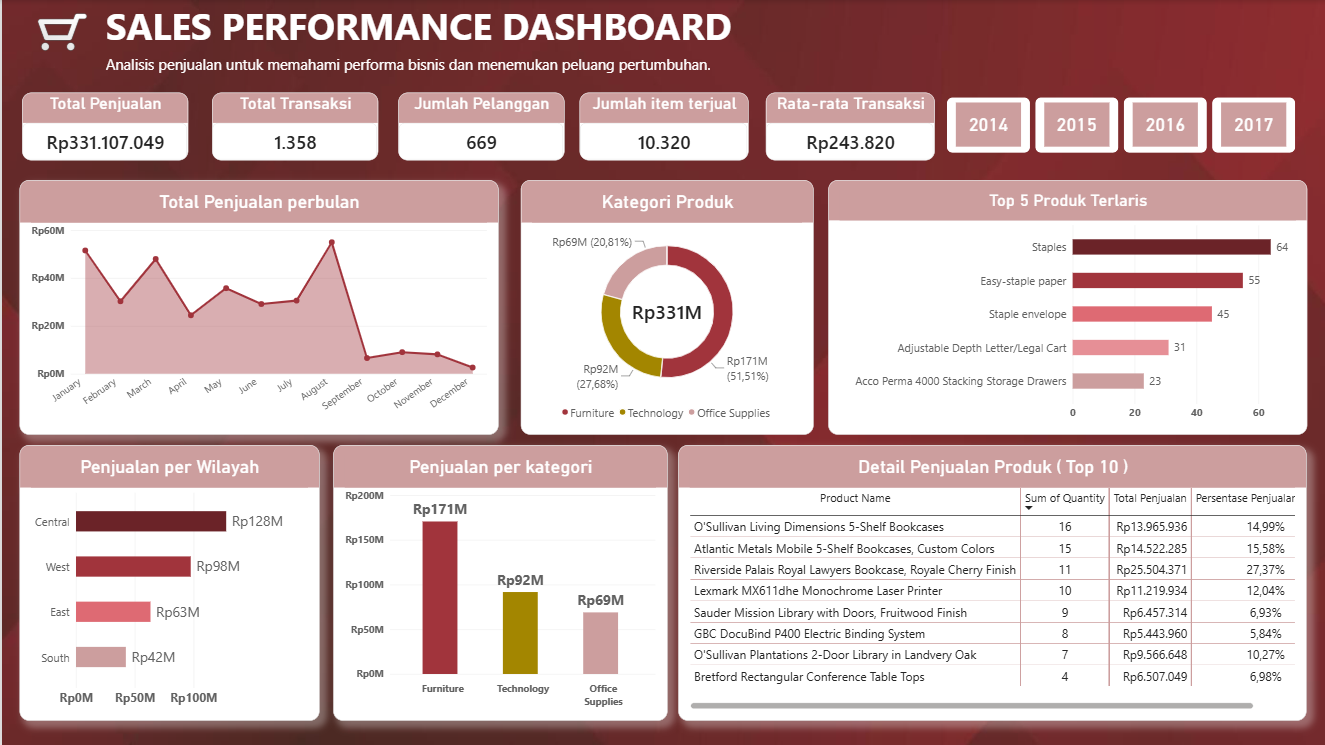

What the dashboard file says about the page in this screenshot:
{"tool":"powerbi","page":{"name":"Page 1","canvas":[1920,1080],"ordinal":0},"visuals":[{"type":"areaChart","title":"Total Penjualan perbulan","fields":{"Category":["Sample - Superstore.Order Date.Variation.Date Hierarchy.Month"],"Y":["Sample - Superstore.Total Penjualan"]},"box":[24.7,261.4,693.7,368.4],"z":0},{"type":"advancedSlicerVisual","fields":{"Values":["Sample - Superstore.Order Date.Variation.Date Hierarchy.Year"]},"box":[1368.8,142,520.8,80.3],"z":1000},{"type":"textbox","box":[150.3,0,924.2,92.6],"z":2000},{"type":"image","box":[0,0,175,92.6],"z":3000},{"type":"textbox","box":[150.3,78.2,924.2,55.6],"z":4000},{"type":"cardVisual","title":"Total Penjualan","fields":{"Data":["Sample - Superstore.Total Penjualan"]},"box":[28.8,133.8,240.8,98.8],"z":5000},{"type":"cardVisual","title":"Total Transaksi","fields":{"Data":["Sample - Superstore.Total Transaksi"]},"box":[304.6,133.8,240.8,98.8],"z":6000},{"type":"cardVisual","title":"Jumlah Pelanggan","fields":{"Data":["Sample - Superstore.Jumlah Pelanggan"]},"box":[574.3,133.8,240.8,98.8],"z":7000},{"type":"cardVisual","title":"Rata-rata Transaksi","fields":{"Data":["Sample - Superstore.Rata-rata Transaksi"]},"box":[1105.3,133.8,244.9,98.8],"z":8000},{"type":"cardVisual","title":"Jumlah item terjual","fields":{"Data":["Sample - Superstore.Jumlah Terjual"]},"box":[835.7,133.8,244.9,98.8],"z":9000},{"type":"donutChart","title":"Kategori Produk","fields":{"Category":["Sample - Superstore.Category"],"Y":["Sample - Superstore.Total Penjualan"]},"box":[751.3,261.4,424,368.4],"z":10000},{"type":"columnChart","title":"Penjualan per kategori","fields":{"Category":["Sample - Superstore.Category"],"Y":["Sum(Sample - Superstore.Sales)"]},"box":[479.6,644.3,483.7,399.3],"z":11000},{"type":"barChart","title":"Top 5 Produk Terlaris","fields":{"Category":["Sample - Superstore.Product Name"],"Y":["Sum(Sample - Superstore.Quantity)"]},"box":[1195.9,261.4,693.7,368.4],"z":12000},{"type":"barChart","title":"Penjualan per Wilayah","fields":{"Category":["Sample - Superstore.Region"],"Y":["Sample - Superstore.Total Penjualan"]},"box":[24.7,644.3,434,399],"z":13000},{"type":"tableEx","title":"Detail Penjualan Produk ( Top 10 )","fields":{"Values":["Sample - Superstore.Product Name","Sum(Sample - Superstore.Quantity)","Sample - Superstore.Total Penjualan","Sample - Superstore.Persentase Penjualan Produk"]},"box":[979.8,644.3,909.8,399.3],"z":13001}]}

Visuals, with their boxes in screenshot pixels (x1, y1, x2, y2), scaled from the page's 1920x1080 canvas onto the 1325x745 screenshot:
"Total Penjualan perbulan" areaChart: rect(17, 180, 496, 434)
advancedSlicerVisual - Sample - Superstore.Order Date.Variation.Date Hierarchy.Year: rect(945, 98, 1304, 153)
textbox: rect(104, 0, 742, 64)
image: rect(0, 0, 121, 64)
textbox: rect(104, 54, 742, 92)
"Total Penjualan" cardVisual: rect(20, 92, 186, 160)
"Total Transaksi" cardVisual: rect(210, 92, 376, 160)
"Jumlah Pelanggan" cardVisual: rect(396, 92, 563, 160)
"Rata-rata Transaksi" cardVisual: rect(763, 92, 932, 160)
"Jumlah item terjual" cardVisual: rect(577, 92, 746, 160)
"Kategori Produk" donutChart: rect(518, 180, 811, 434)
"Penjualan per kategori" columnChart: rect(331, 444, 665, 720)
"Top 5 Produk Terlaris" barChart: rect(825, 180, 1304, 434)
"Penjualan per Wilayah" barChart: rect(17, 444, 317, 720)
"Detail Penjualan Produk ( Top 10 )" tableEx: rect(676, 444, 1304, 720)
